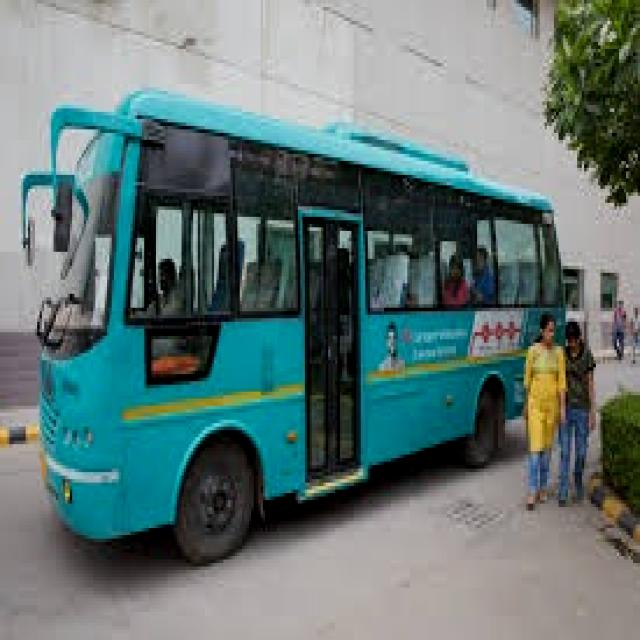bus: (17, 71, 581, 561)
